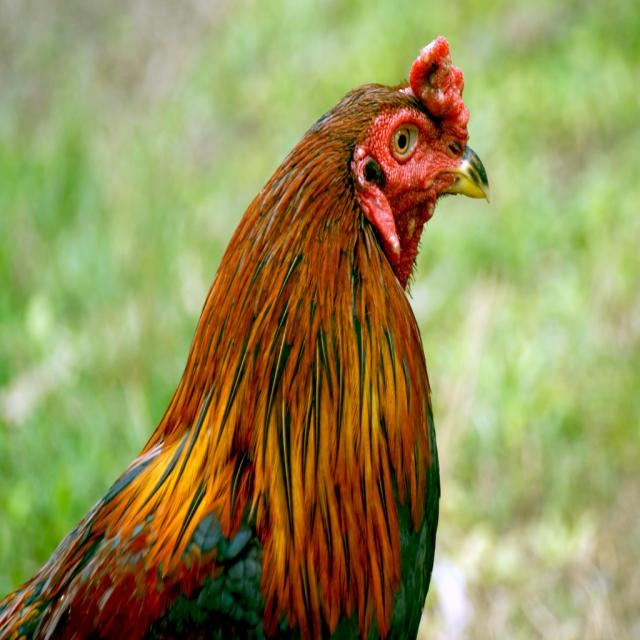Chicken: (0, 36, 491, 640)
